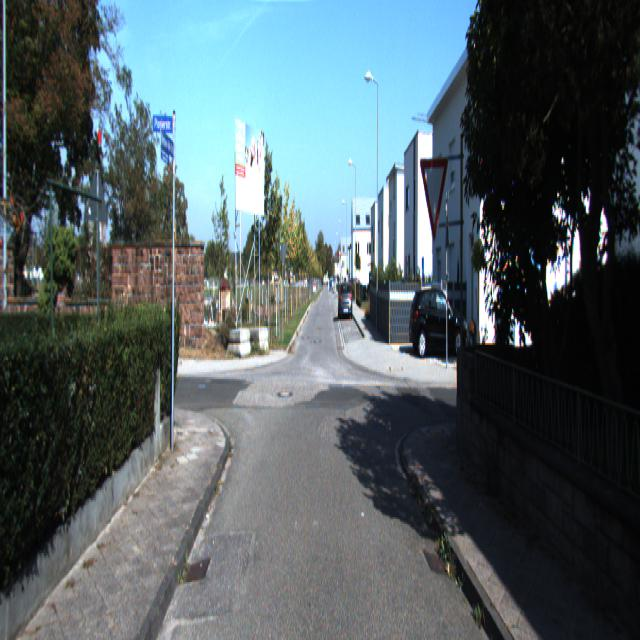Car: (407, 280, 469, 360), (338, 279, 352, 318)
